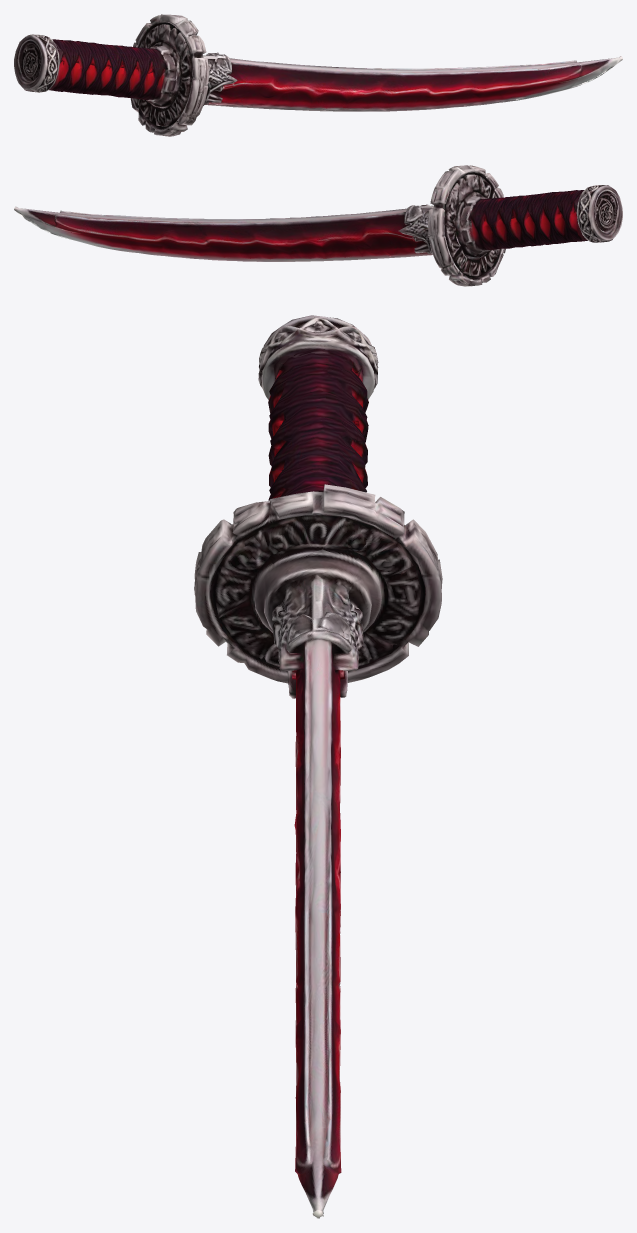
Rendered from katana.glb.
3 views of the same model, one above another, from view 1: azimuth 30°, elevation 25°; view 2: azimuth 150°, elevation 25°; view 3: azimuth 270°, elevation 25° (orthographic). The views are drawn at different scales.
Visible parts, largest first — view 1: tripo_node_23950ba1-52ac-4b6a-81fb-06ef12db1809; view 2: tripo_node_23950ba1-52ac-4b6a-81fb-06ef12db1809; view 3: tripo_node_23950ba1-52ac-4b6a-81fb-06ef12db1809.
Part boxes in pixels (x1,y1,x2,y2): tripo_node_23950ba1-52ac-4b6a-81fb-06ef12db1809: (14, 14, 622, 136); tripo_node_23950ba1-52ac-4b6a-81fb-06ef12db1809: (14, 165, 622, 286); tripo_node_23950ba1-52ac-4b6a-81fb-06ef12db1809: (194, 315, 442, 1218).
Size of the model in its own units: 0.9808 by 0.2849 by 0.1758.
1 material, 1 textured.
